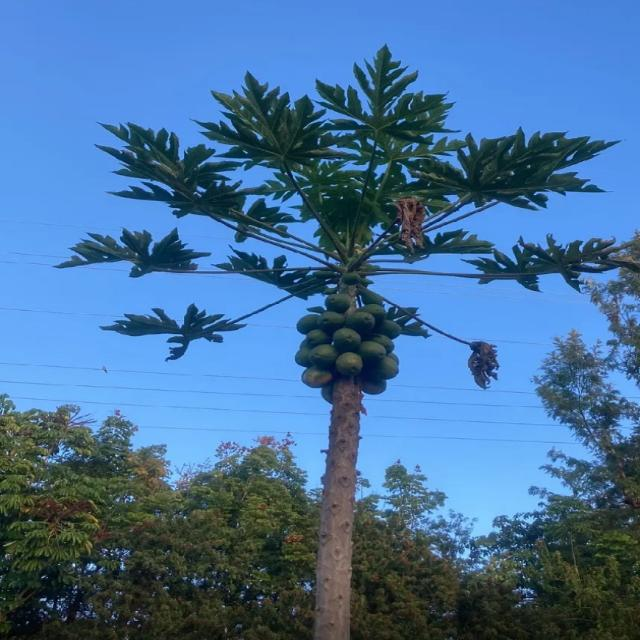Papaya-Tree: (33, 49, 640, 488)
